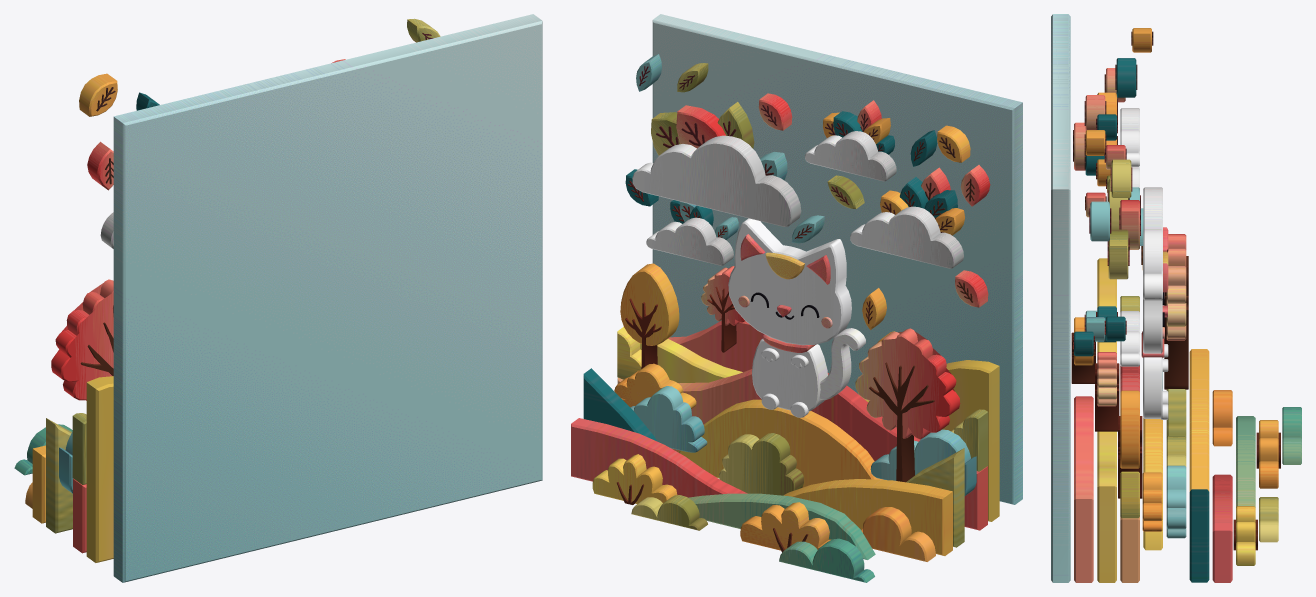
File: Level_P_36.fbx
The picture shows the model from 3 angles, left to right: view 1: azimuth 30°, elevation 25°; view 2: azimuth 150°, elevation 25°; view 3: azimuth 270°, elevation 25°; orthographic projection. The views are drawn at different scales.
Visible parts, largest first — view 1: Cylinder.383, Curve.088, Cylinder.394, Curve.083, Cylinder.359, Curve.085, Curve.096, Curve.089, Cylinder.358; view 2: Cylinder.383, Cylinder.384, Cylinder.393, Cylinder.394, Curve.095, Curve.089, Curve.088, Curve.085, Curve.084, Cylinder.379, Cylinder.381, Curve.099 (+38 smaller); view 3: Cylinder.383, Curve.088, Curve.087, Cylinder.394, Curve.085, Cylinder.393, Curve.084, Cylinder.381, Curve.100, Cylinder.389, Curve.086, Curve.089 (+32 smaller).
Boxes of the visible parts, left/top/right/bottom form: Cylinder.383: left=113, top=14, right=542, bottom=582; Curve.088: left=86, top=376, right=113, bottom=562; Cylinder.394: left=51, top=279, right=113, bottom=400; Curve.083: left=46, top=418, right=72, bottom=533; Cylinder.359: left=79, top=73, right=117, bottom=116; Curve.085: left=32, top=445, right=45, bottom=523; Curve.096: left=72, top=413, right=86, bottom=484; Curve.089: left=73, top=478, right=86, bottom=553; Cylinder.358: left=87, top=141, right=113, bottom=190; Cylinder.383: left=652, top=14, right=1022, bottom=504; Cylinder.384: left=728, top=218, right=851, bottom=345; Cylinder.393: left=632, top=135, right=801, bottom=226; Cylinder.394: left=855, top=328, right=960, bottom=482; Curve.095: left=678, top=399, right=883, bottom=487; Curve.089: left=617, top=369, right=987, bottom=530; Curve.088: left=640, top=339, right=999, bottom=521; Curve.085: left=783, top=479, right=952, bottom=555; Curve.084: left=571, top=418, right=747, bottom=497; Cylinder.379: left=850, top=206, right=963, bottom=268; Cylinder.381: left=620, top=263, right=679, bottom=368; Curve.099: left=719, top=433, right=803, bottom=495; Cylinder.383: left=1051, top=14, right=1070, bottom=582; Curve.088: left=1097, top=258, right=1116, bottom=582; Curve.087: left=1074, top=396, right=1093, bottom=582; Cylinder.394: left=1164, top=234, right=1188, bottom=389; Curve.085: left=1189, top=349, right=1209, bottom=491; Cylinder.393: left=1143, top=187, right=1162, bottom=300; Curve.084: left=1212, top=474, right=1232, bottom=582; Cylinder.381: left=1118, top=390, right=1142, bottom=498; Curve.100: left=1189, top=489, right=1209, bottom=582; Cylinder.389: left=1095, top=352, right=1119, bottom=431; Curve.086: left=1236, top=416, right=1255, bottom=506; Curve.089: left=1120, top=366, right=1139, bottom=582.
Bounding box in the file's own units: 18.54 × 19.43 × 11.22.
